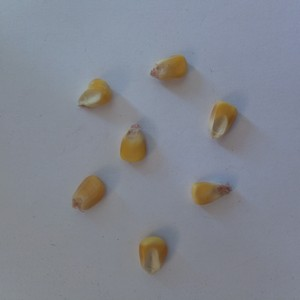maiz: (68, 171, 108, 213), (135, 232, 171, 276), (147, 50, 191, 85), (206, 100, 241, 144), (75, 73, 114, 112), (119, 121, 150, 167), (190, 176, 233, 209)
